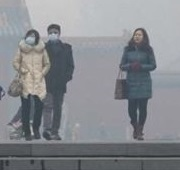person: (113, 26, 158, 141), (7, 28, 52, 141), (43, 22, 74, 140)
